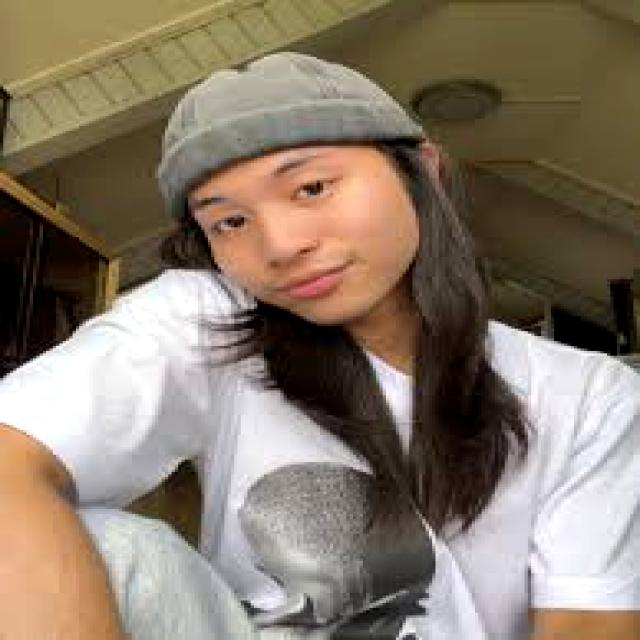hat: (159, 52, 425, 214)
